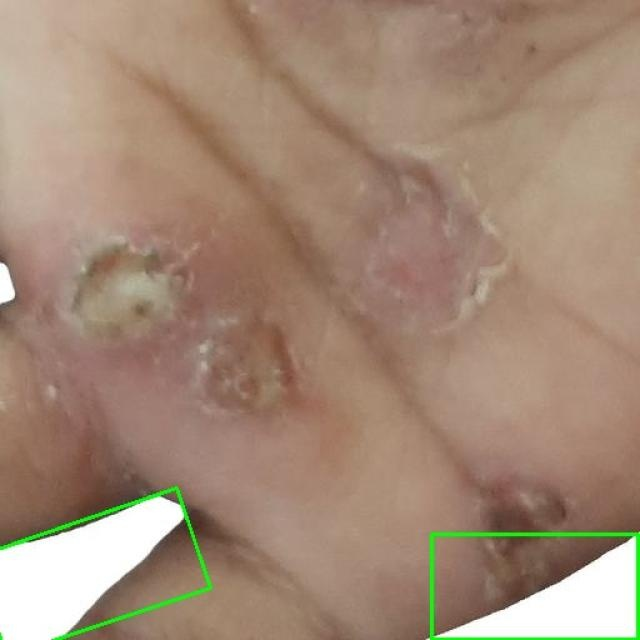Eczema: (0, 488, 215, 640), (432, 534, 639, 639)
